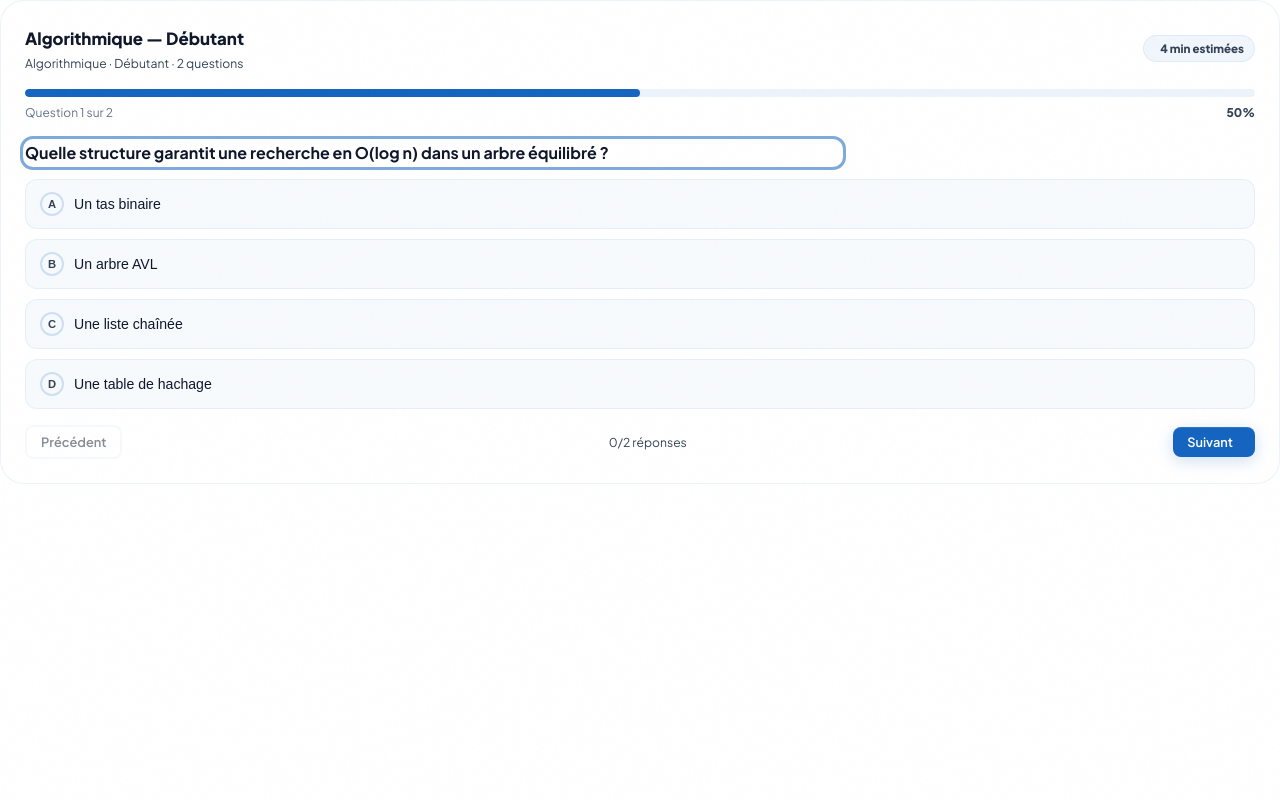
Test: QuizRunner › répond aux questions et affiche un résultat local
The width and height of the screenshot is (1280, 800).
Click the radio button labelled "A Un tas binaire" at (117, 204), box left=25, top=178, right=1255, bottom=228
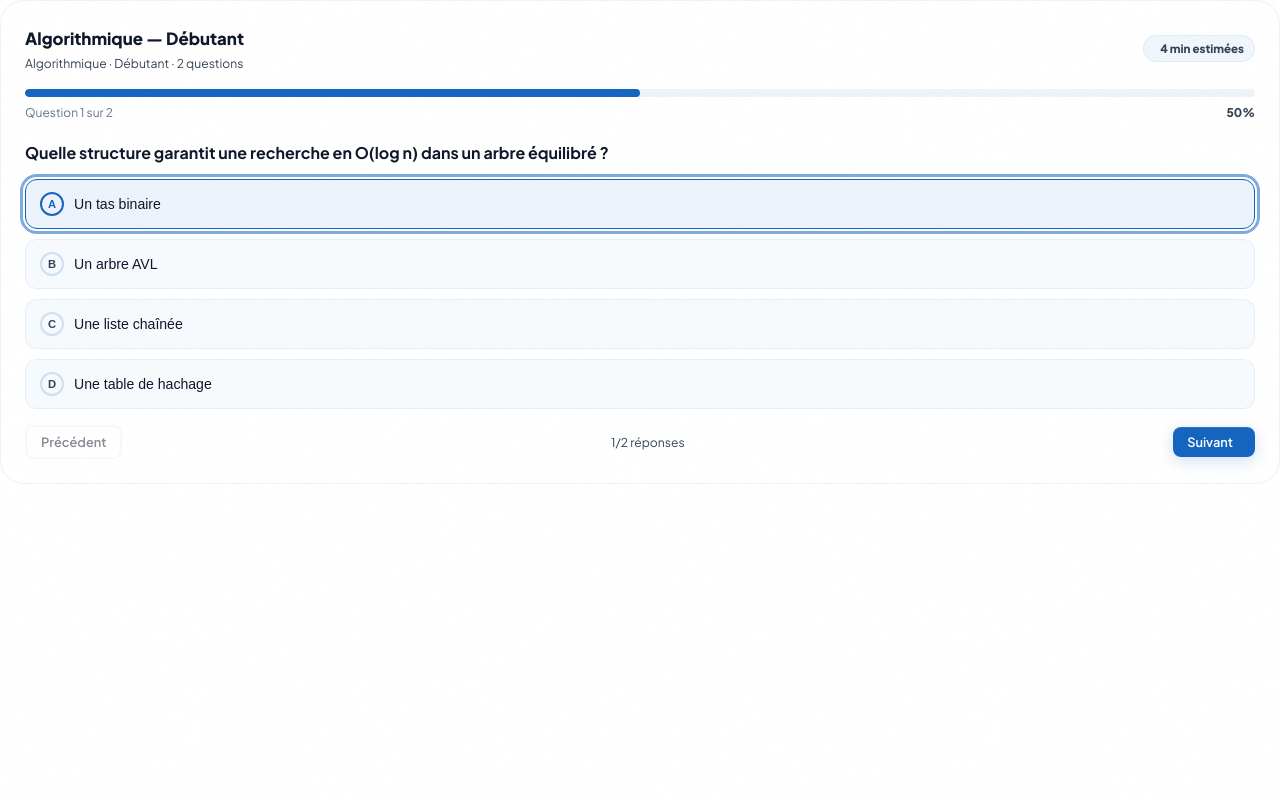
Check: the radio button labelled "A Un tas binaire" is checked, box left=25, top=178, right=1255, bottom=228
Click the button "Suivant" at (1214, 442), box left=1173, top=426, right=1255, bottom=456
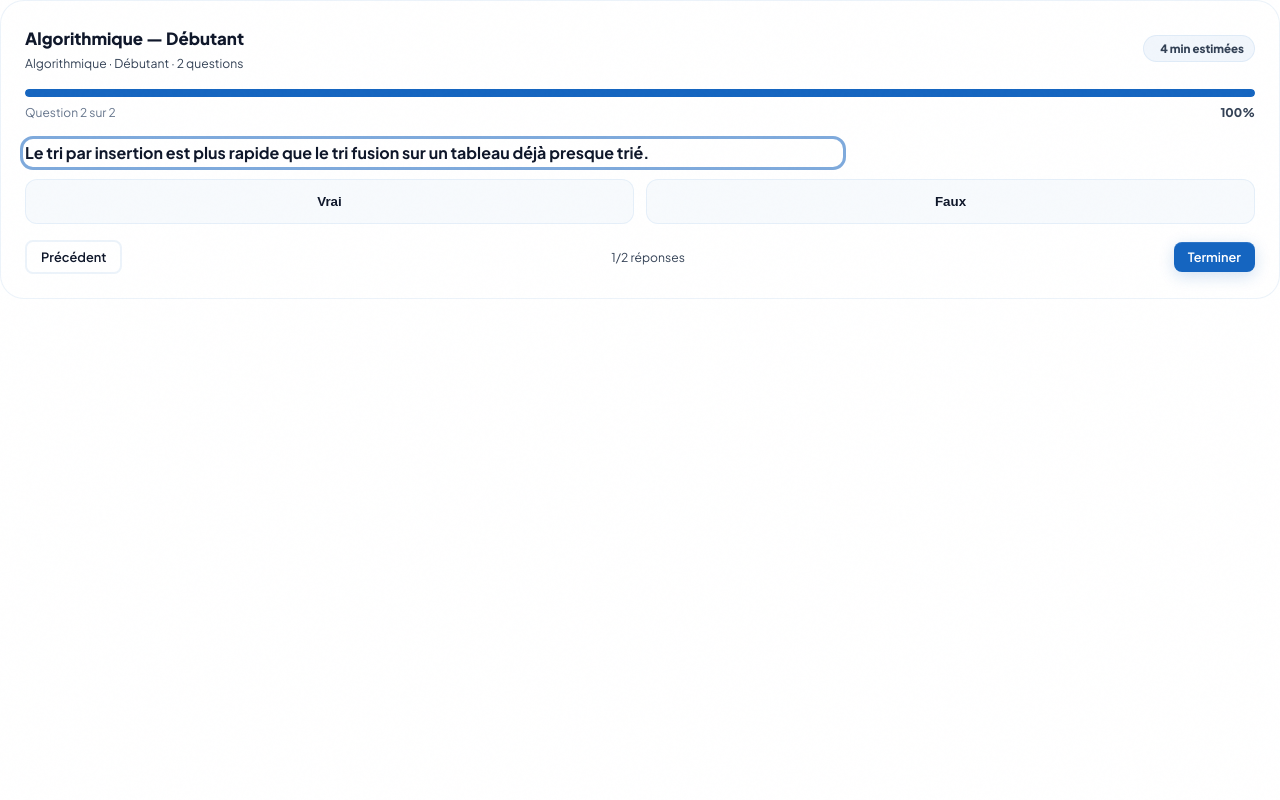
Click the radio button labelled "Vrai" at (330, 201), box left=25, top=178, right=634, bottom=224
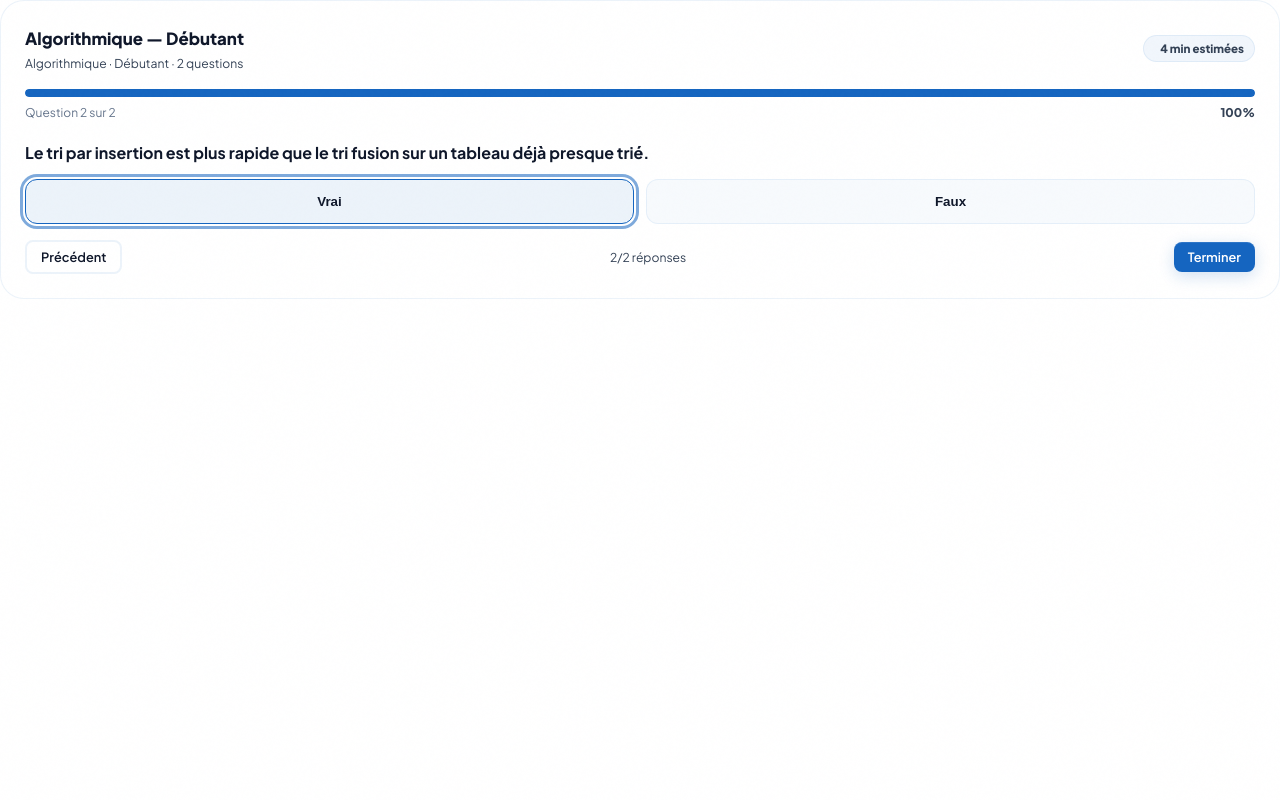
Click the button "Terminer" at (1214, 256), box left=1174, top=242, right=1255, bottom=272
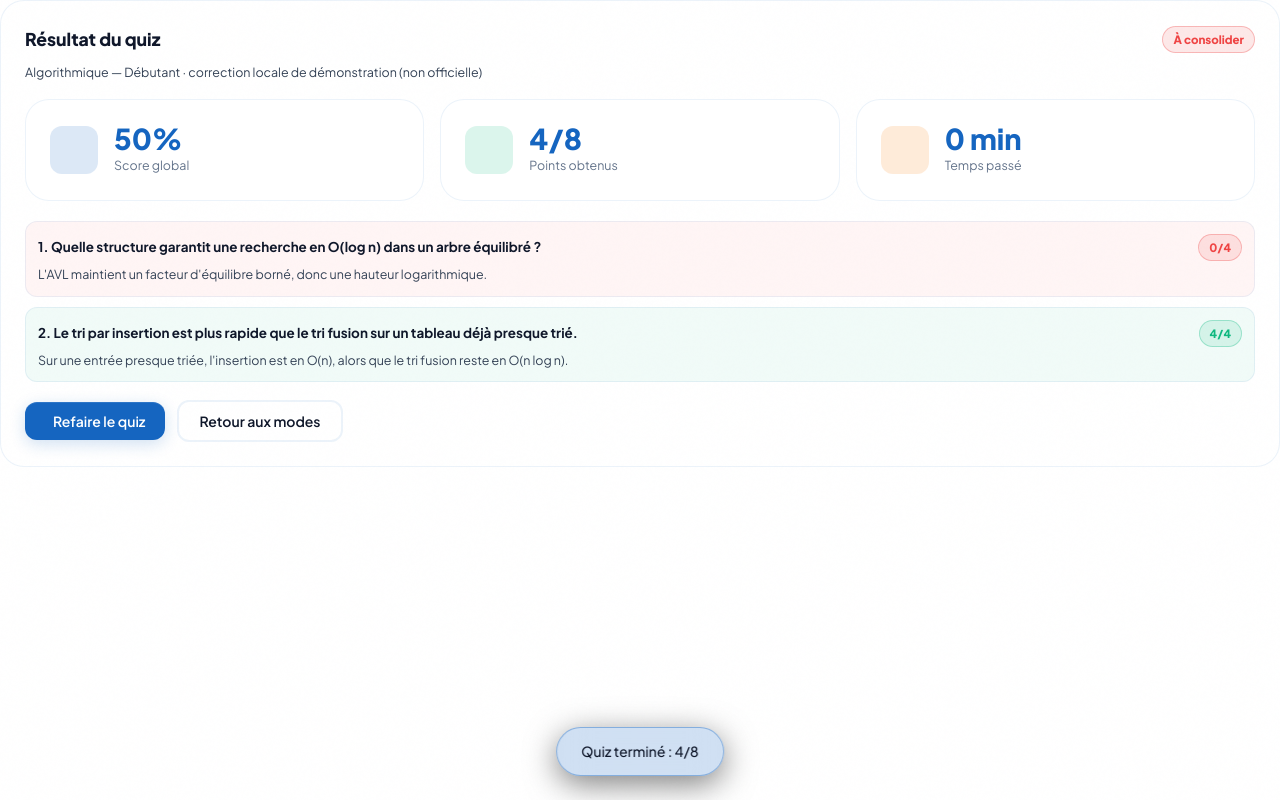
Check: the heading "Résultat du quiz" is shown, box left=25, top=25, right=160, bottom=54
Check: the text "correction locale de démonstration" is shown, box left=180, top=64, right=482, bottom=80
Check: the text "Score global" is shown, box left=114, top=155, right=189, bottom=176
